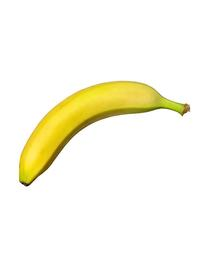banana: (18, 79, 189, 186)
